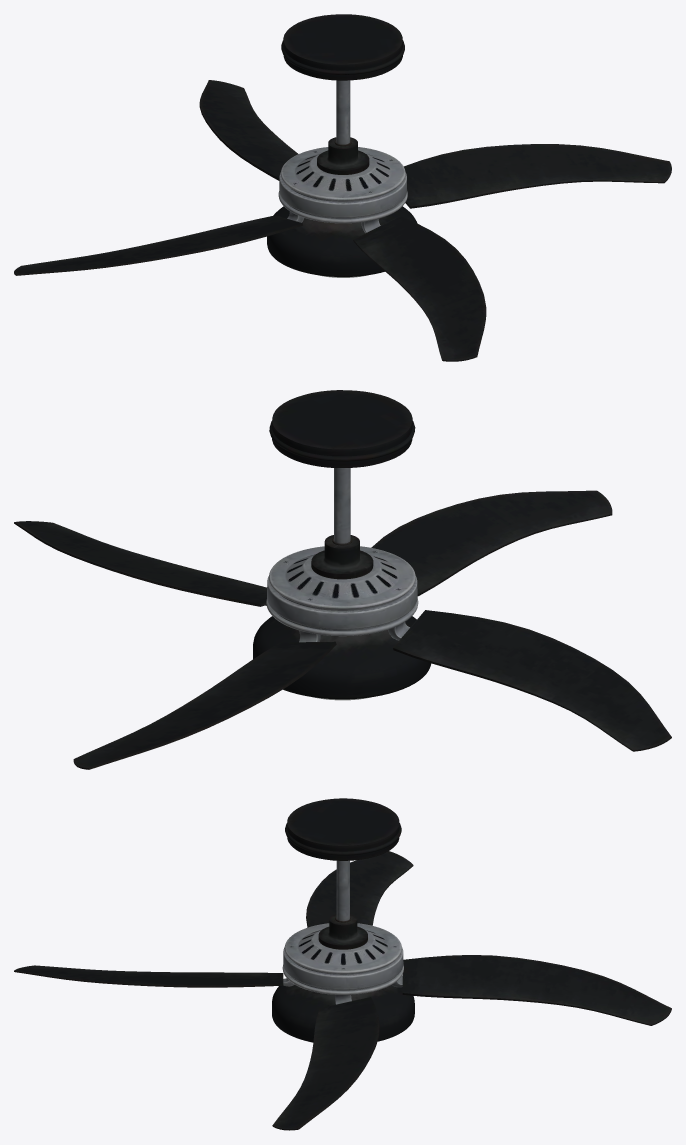
File: leuchten-deckenventilator.glb
The picture shows the model from 3 angles, top to bottom: view 1: azimuth 30°, elevation 25°; view 2: azimuth 150°, elevation 25°; view 3: azimuth 270°, elevation 25°; orthographic projection. The views are drawn at different scales.
Visible parts, largest first — view 1: ceiling_fan_blades, ceiling_fan; view 2: ceiling_fan_blades, ceiling_fan; view 3: ceiling_fan_blades, ceiling_fan.
Part boxes in pixels (box(x1,y1,x2,y2)): ceiling_fan_blades: box(14, 80, 671, 361); ceiling_fan: box(267, 14, 417, 277); ceiling_fan_blades: box(14, 490, 671, 769); ceiling_fan: box(253, 390, 431, 700); ceiling_fan_blades: box(14, 851, 671, 1130); ceiling_fan: box(272, 798, 414, 1042).
Bounding box in the file's own units: 1.46 × 0.5163 × 1.46.
1 material, 1 textured.
